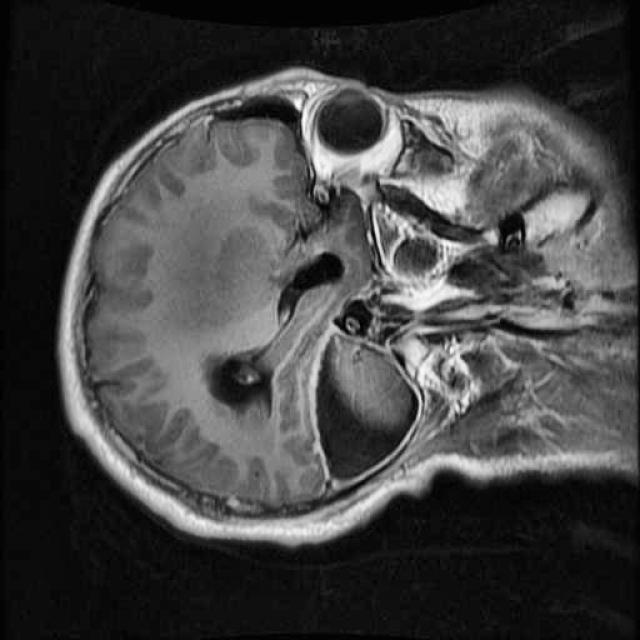Non-Tumor: (271, 306, 434, 505)
